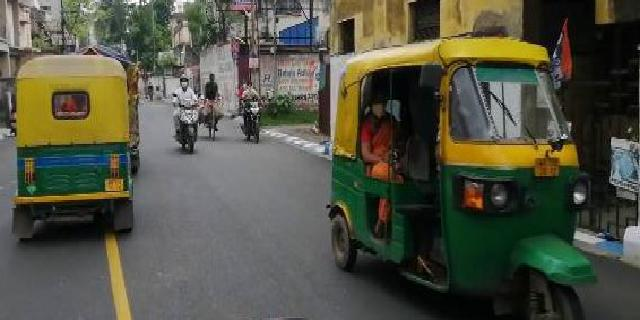Autorickshaw: (323, 33, 603, 320), (10, 53, 138, 239)
Cycle: (202, 70, 224, 143)
Motorbike: (169, 73, 202, 155), (235, 79, 265, 146)
